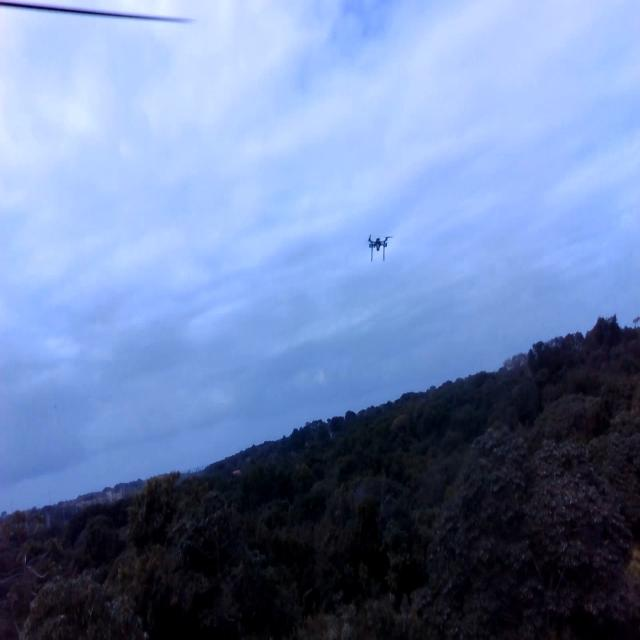-uav-: (365, 225, 393, 268)
